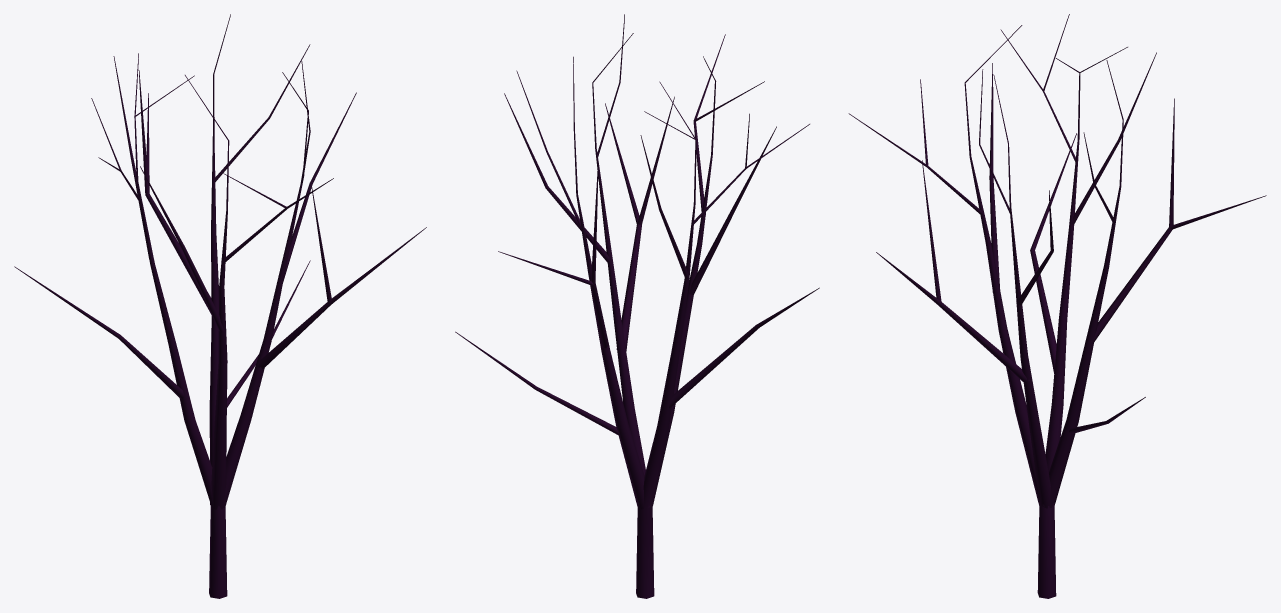
Rendered from Derev0 Mertv0.fbx.
The picture shows the model from 3 angles, left to right: view 1: azimuth 30°, elevation 25°; view 2: azimuth 150°, elevation 25°; view 3: azimuth 270°, elevation 25°; orthographic projection.
Parts seen in each view (by area): view 1: tree; view 2: tree; view 3: tree.
Part boxes in pixels (x1=…): tree: x1=14, y1=14, x2=426, y2=598; tree: x1=455, y1=14, x2=819, y2=598; tree: x1=848, y1=14, x2=1266, y2=598.
Size of the model in its own units: 187 by 297 by 202.
